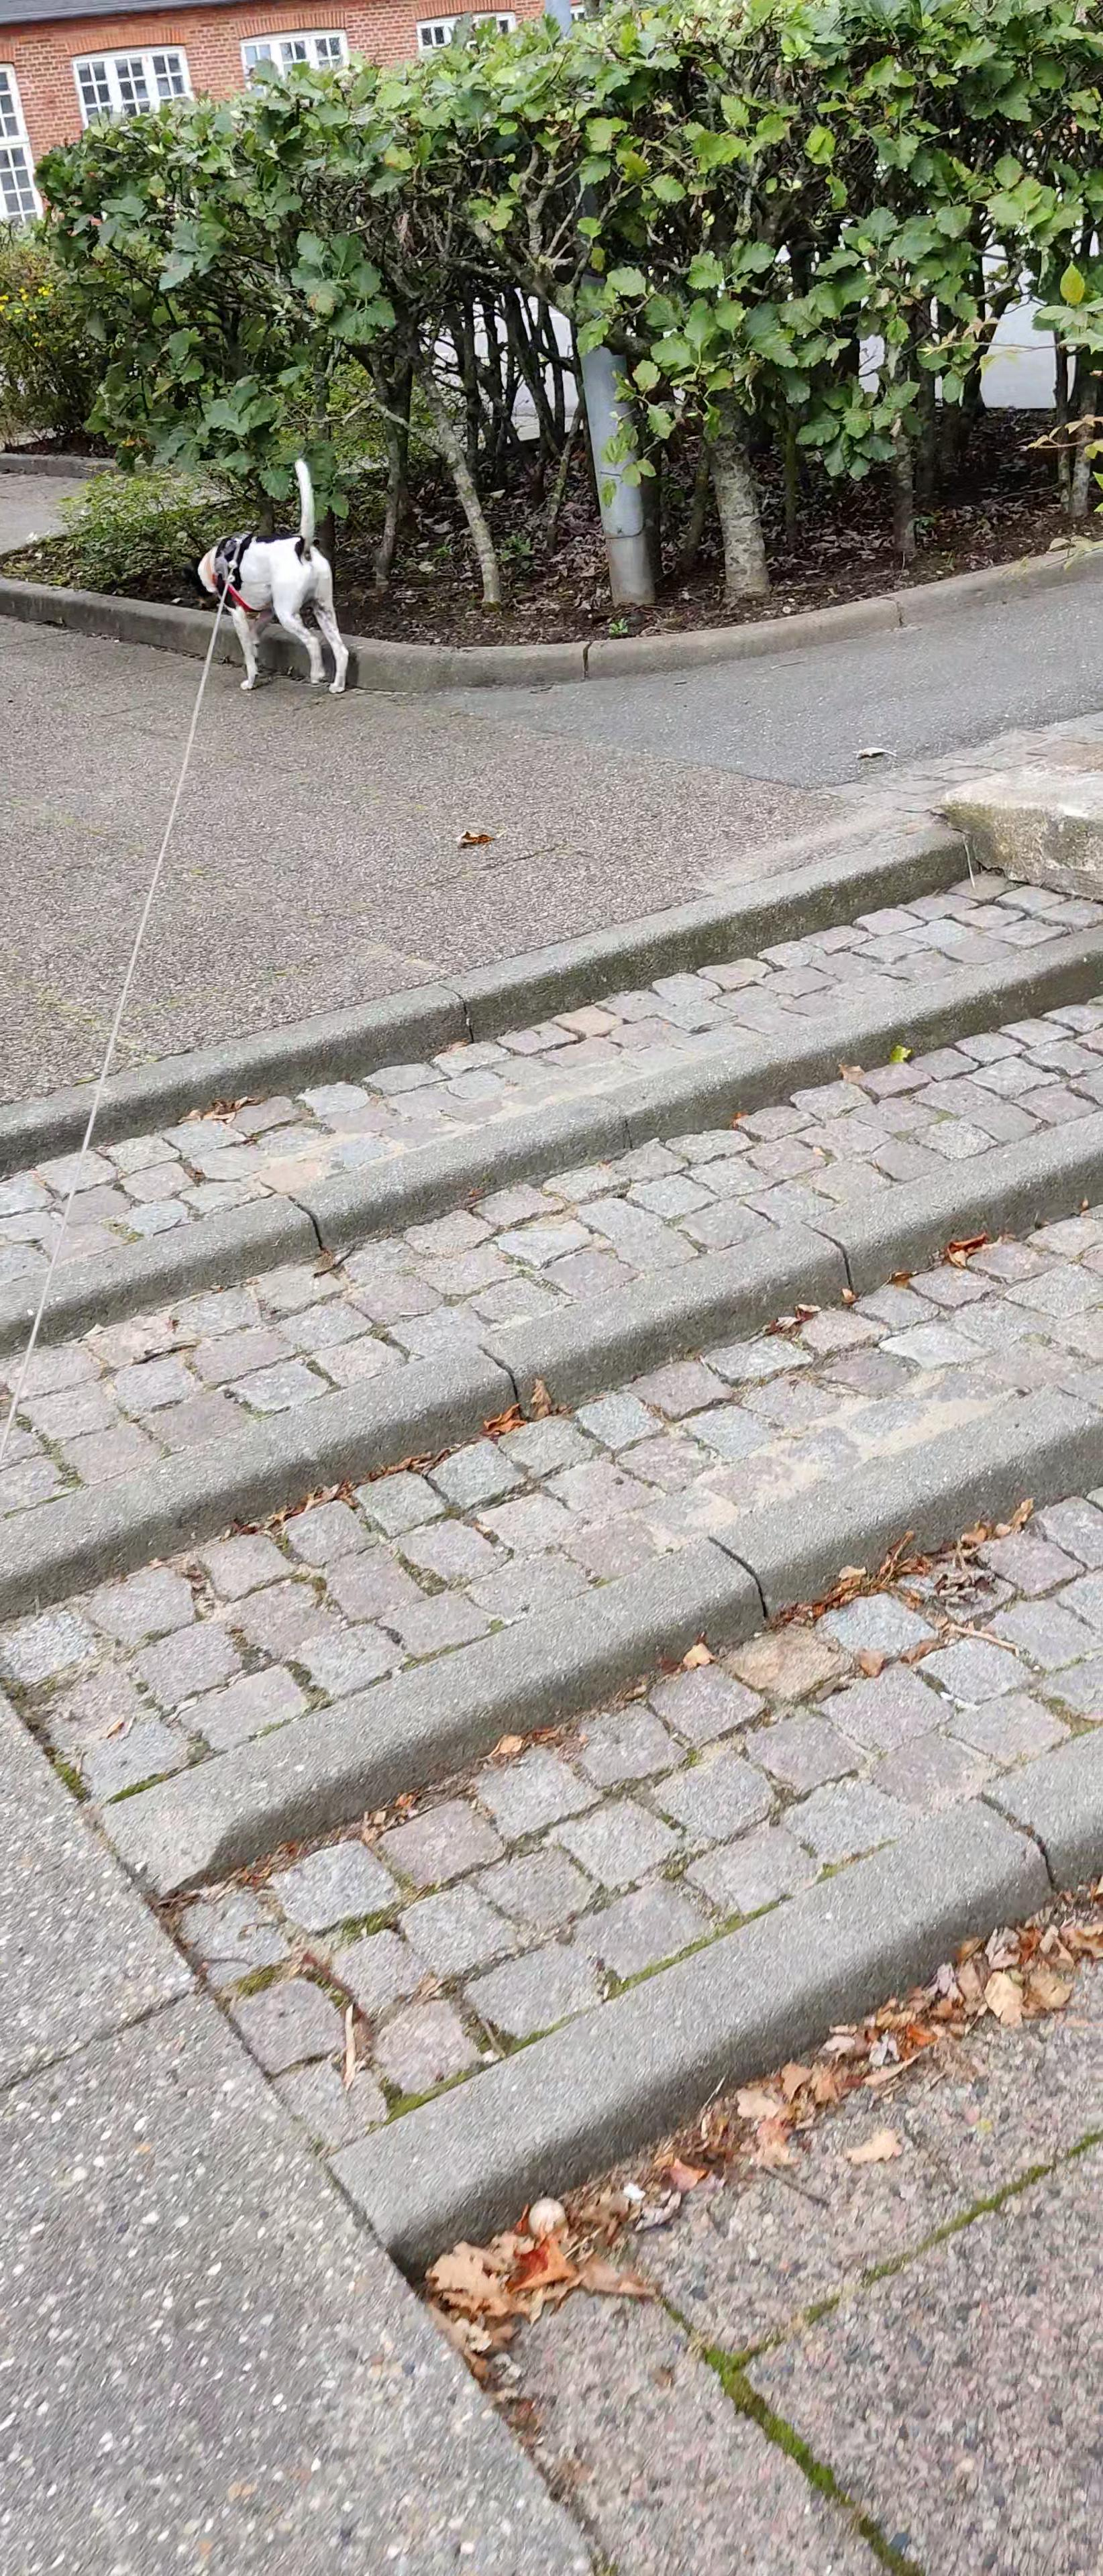Dog: (176, 457, 355, 698)
